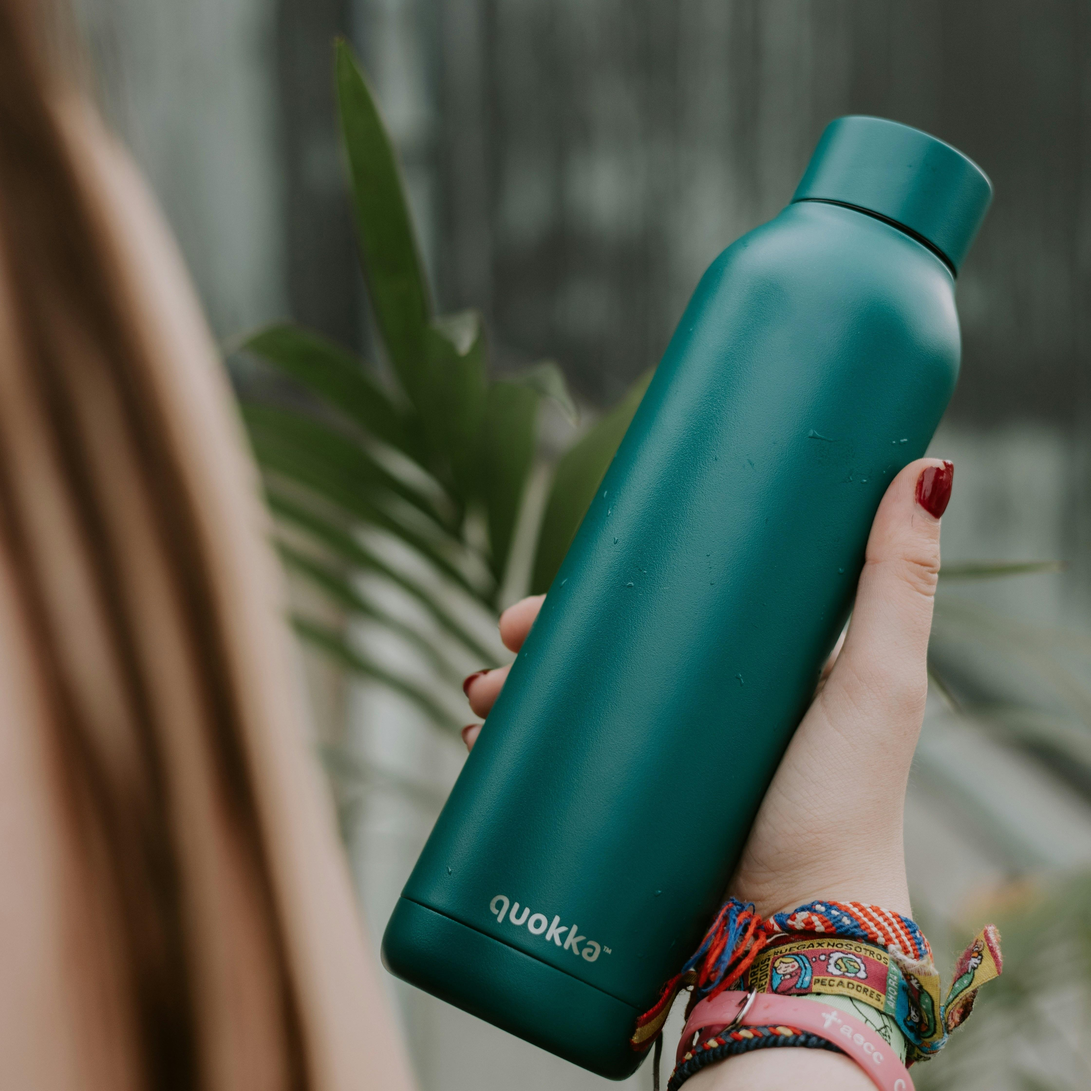Bottle-Detection: (360, 27, 1025, 1091)
